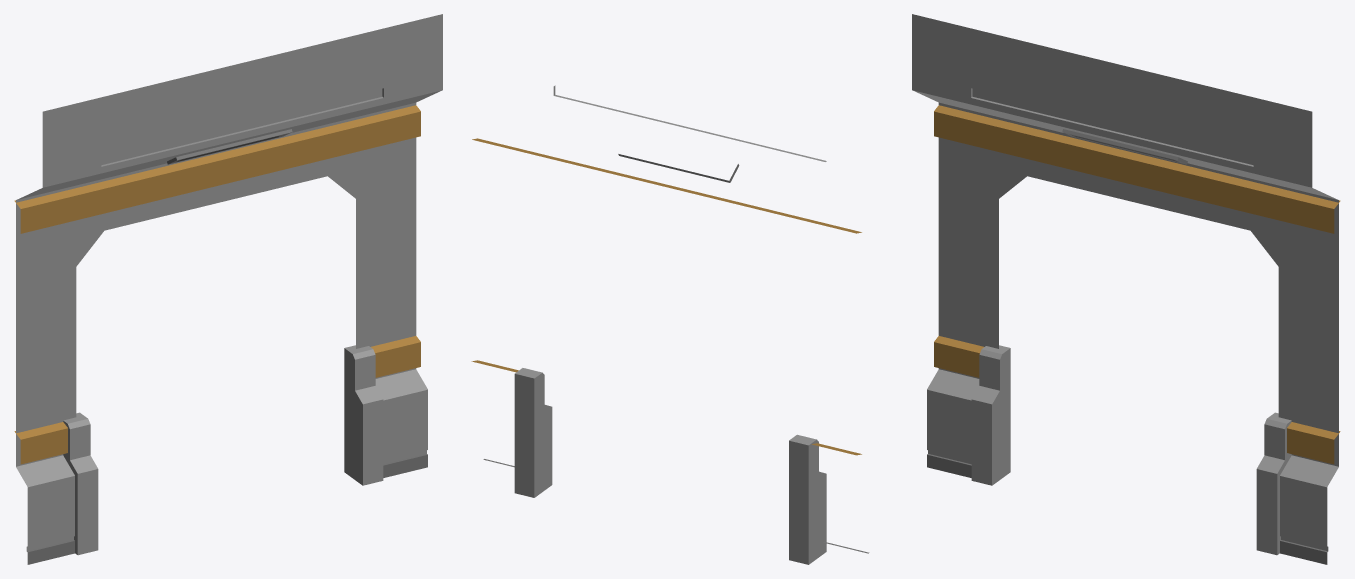
File: DoorDouble_Wall_SideB.glb
3 renders of one model, left to right at view 1: azimuth 30°, elevation 25°; view 2: azimuth 150°, elevation 25°; view 3: azimuth 330°, elevation 25°, orthographic. The views are drawn at different scales.
Visible parts, largest first — view 1: DoorDouble_Wall_SideB; view 2: DoorDouble_Wall_SideB; view 3: DoorDouble_Wall_SideB.
Part boxes in pixels (bbox=[...]): DoorDouble_Wall_SideB: bbox=[14, 14, 442, 564]; DoorDouble_Wall_SideB: bbox=[471, 85, 869, 564]; DoorDouble_Wall_SideB: bbox=[912, 14, 1340, 564].
Bounding box in the file's own units: 4 × 4.43 × 0.5307.
